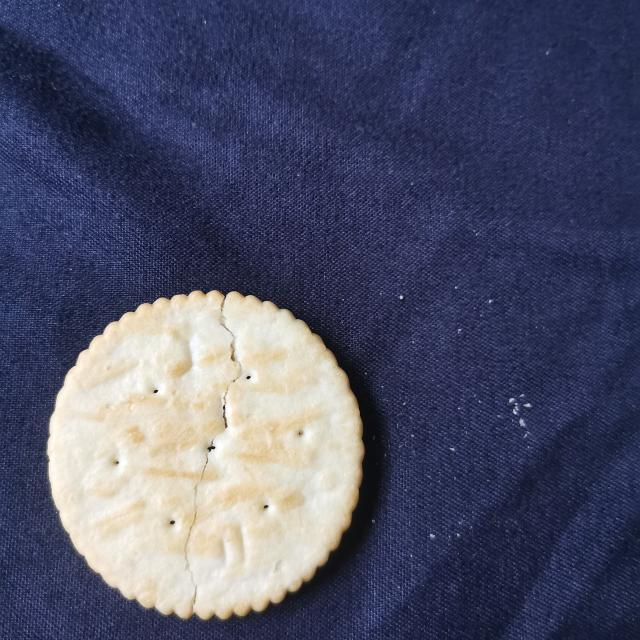Fracture: (172, 292, 249, 619)
